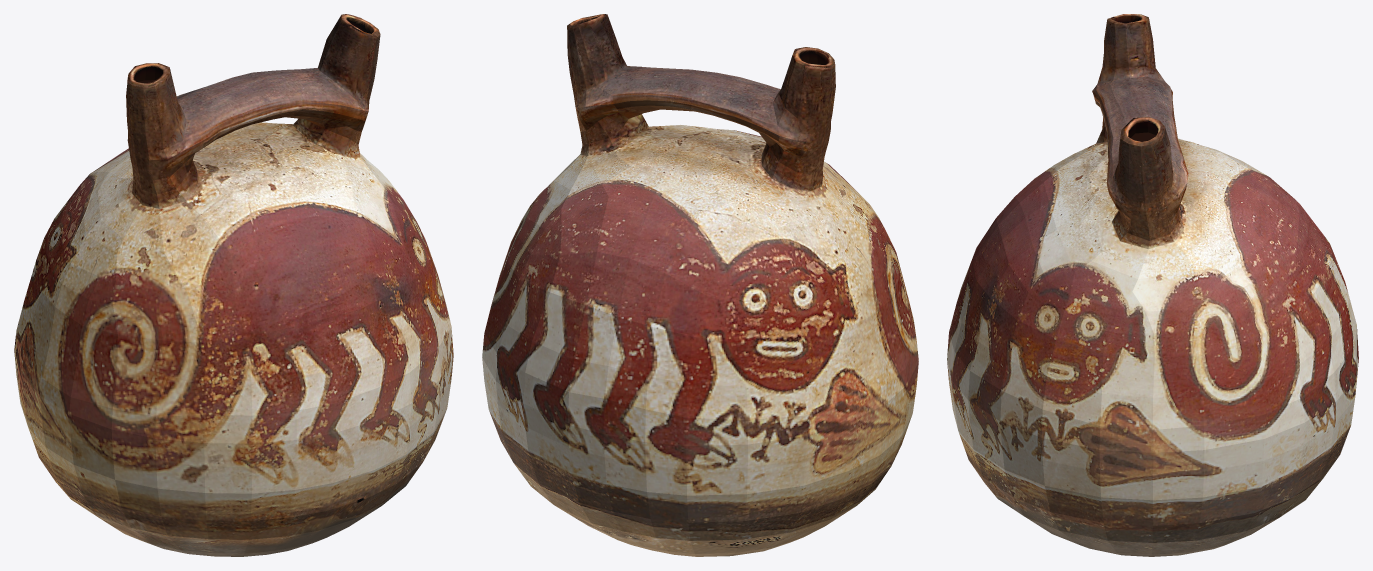
File: objeto_05_nasca.glb
The picture shows the model from 3 angles, left to right: view 1: azimuth 30°, elevation 25°; view 2: azimuth 150°, elevation 25°; view 3: azimuth 270°, elevation 25°; orthographic projection. The views are drawn at different scales.
Visible parts, largest first — view 1: Box001; view 2: Box001; view 3: Box001.
Boxes of the visible parts, <box> form: Box001: <box>14,14,453,556</box>; Box001: <box>482,14,918,556</box>; Box001: <box>947,14,1358,556</box>.
Size of the model in its own units: 0.6541 by 0.7681 by 0.641.
1 material, 1 textured.
